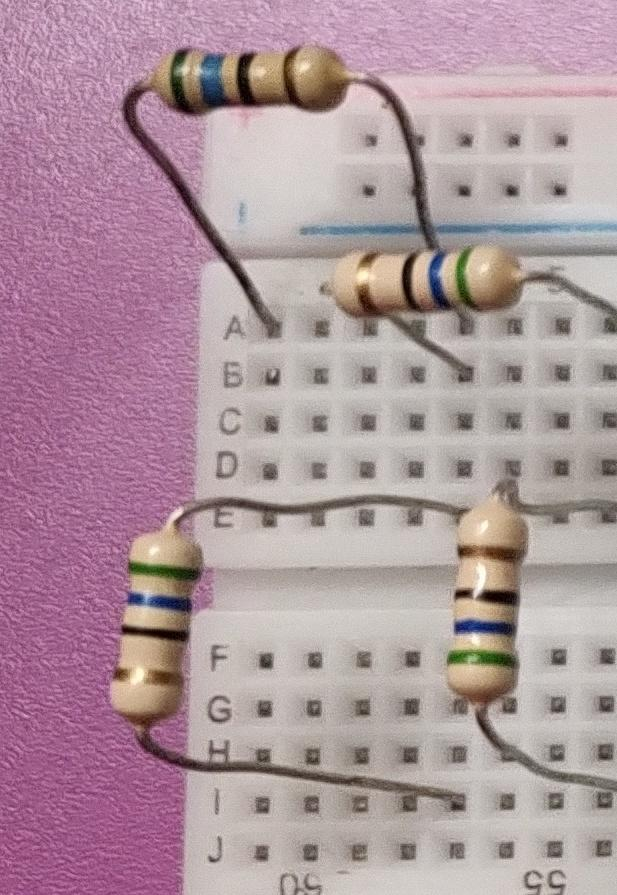resistor: (100, 510, 205, 721), (142, 32, 368, 122), (312, 235, 535, 323), (439, 489, 526, 708)
